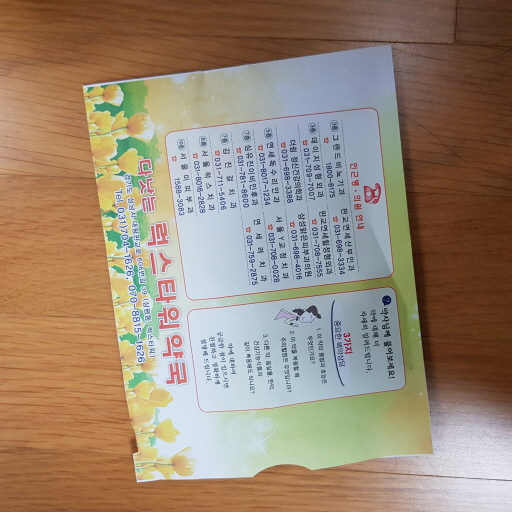Paper_2: (80, 39, 454, 487)
